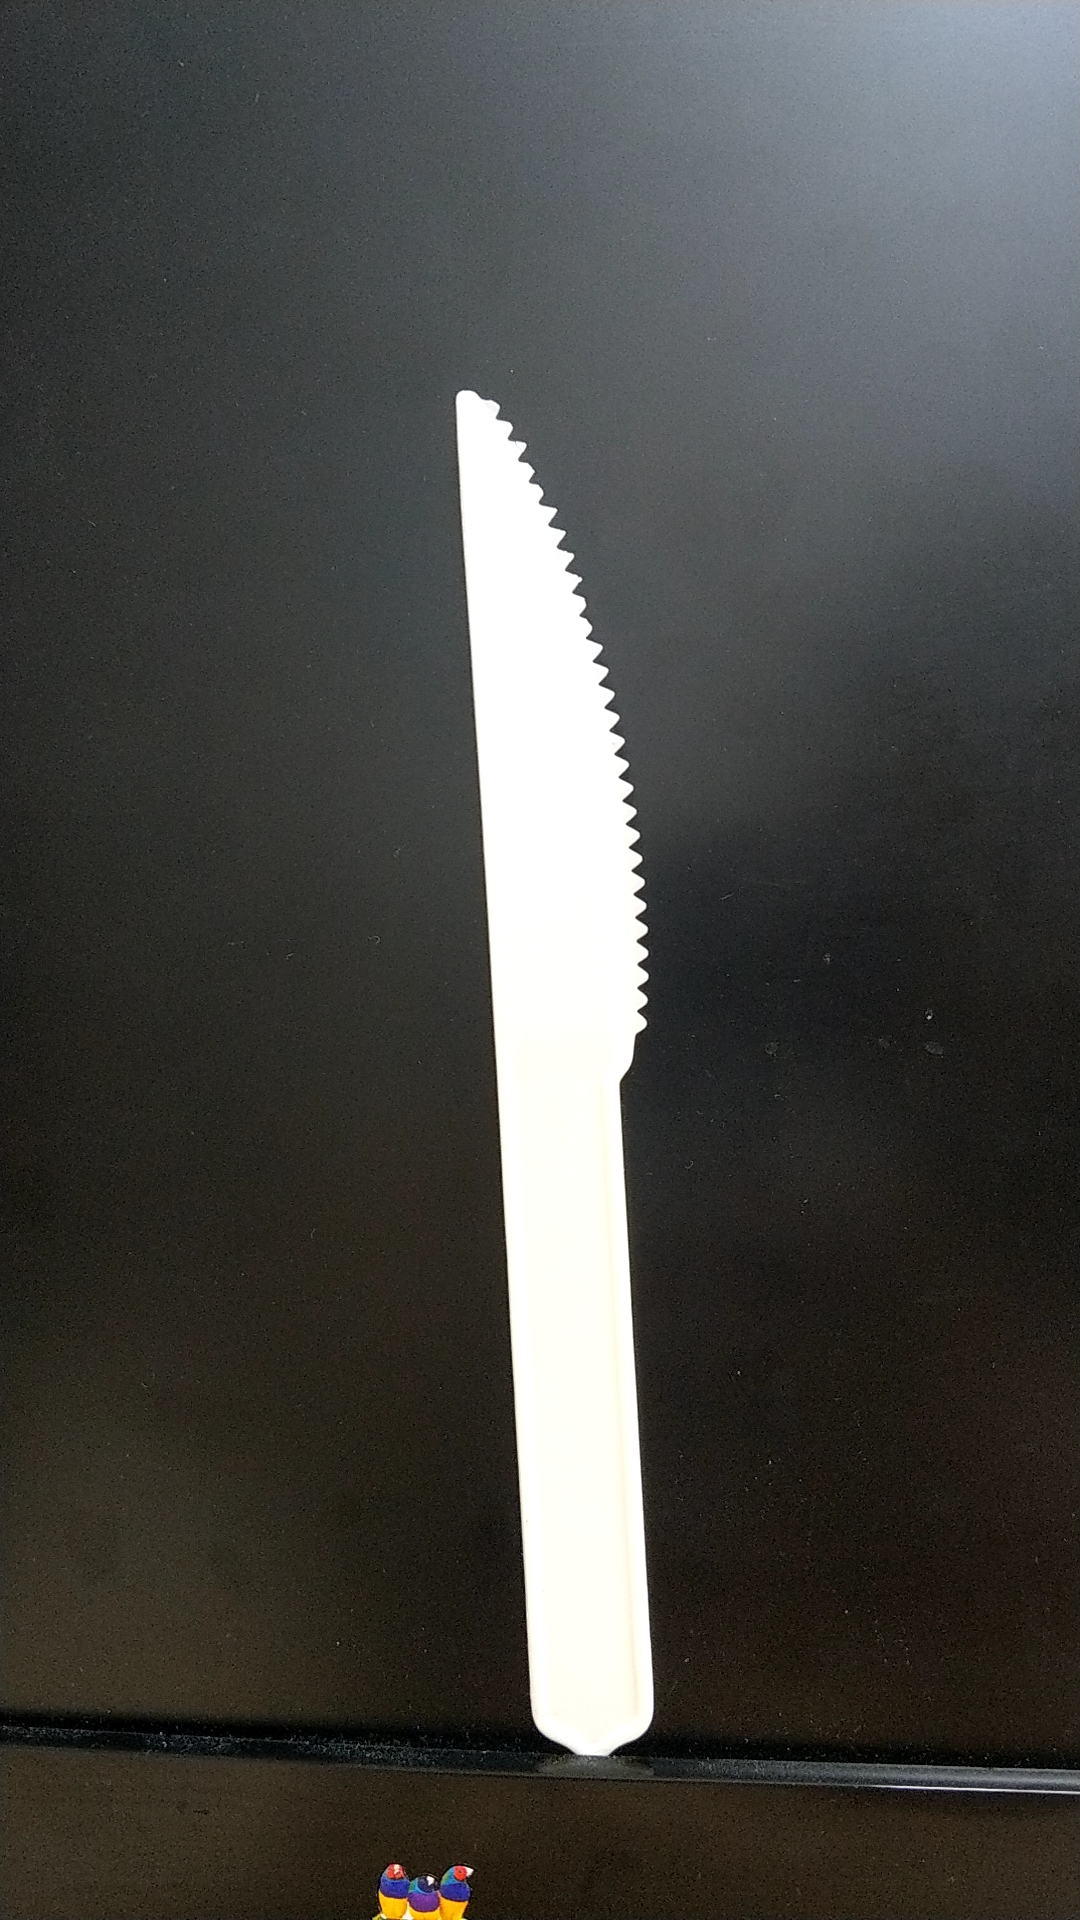knife: (392, 375, 716, 1760)
